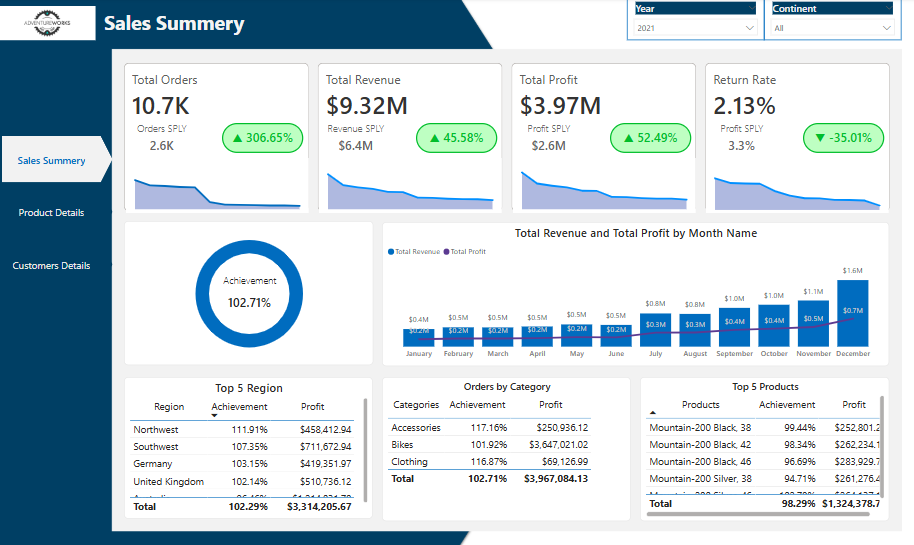

What the dashboard file says about the page in this screenshot:
{"tool":"powerbi","page":{"name":"Sales Summery","canvas":[1500,900],"ordinal":0},"visuals":[{"type":"image","title":"AW Logo","box":[0,12.6,158.4,55.8],"z":0},{"type":"tableEx","title":"Orders by Category","fields":{"Values":["Product Categories Dim.CategoryName","Measure Data.Revenue Achievement","Measure Data.Total Profit"]},"box":[626.7,620.2,407.5,235.6],"z":1000},{"type":"cardVisual","fields":{"Data":["Measure Data.Total Orders","Measure Data.Total Revenue","Measure Data.Total Profit","Measure Data.Return Rate"]},"box":[200.4,101.1,1264,252.8],"z":3000},{"type":"areaChart","fields":{"Category":["Calendar_Table.Month Name"],"Y":["Measure Data.Total Orders"]},"box":[207,261,298.8,90],"z":4000},{"type":"card","title":"YOY Growth","fields":{"Values":["Measure Data.YOY Growth Orders"]},"box":[365.4,205,133.2,48.6],"z":5000},{"type":"card","title":"Orders SPLY","fields":{"Values":["Measure Data.Total Orders SPLY"]},"box":[207,203.4,117,57.6],"z":6000},{"type":"areaChart","fields":{"Category":["Calendar_Table.Month Name"],"Y":["Measure Data.Total Revenue"]},"box":[523.8,261,298.8,90],"z":7000},{"type":"slicer","fields":{"Values":["Calendar_Table.Year"]},"box":[1028.1,0,224.7,69.3],"z":8000,"group":"g2"},{"type":"areaChart","fields":{"Category":["Calendar_Table.Month Name"],"Y":["Measure Data.Total Profit"]},"box":[840.6,261,298.8,90],"z":8000},{"type":"areaChart","fields":{"Category":["Calendar_Table.Month Name"],"Y":["Measure Data.Return Rate"]},"box":[1157.4,261,298.8,90],"z":9000},{"type":"card","title":"YOY Growth","fields":{"Values":["Measure Data.YOY Growth revenue"]},"box":[682.2,205,133.2,48.6],"z":10000},{"type":"card","title":"Revenue SPLY","fields":{"Values":["Measure Data.Total revenue SPLY"]},"box":[525.6,203.4,117,57.6],"z":11000},{"type":"card","title":"YOY Growth","fields":{"Values":["Measure Data.YOY Growth Profit"]},"box":[999,205,133.2,48.6],"z":12000},{"type":"card","title":"Profit SPLY","fields":{"Values":["Measure Data.Total Profit SPLY"]},"box":[840.6,203.4,117,57.6],"z":13000},{"type":"card","title":"YOY Growth","fields":{"Values":["Measure Data.YOY Return Rate"]},"box":[1315.8,205,133.2,48.6],"z":14000},{"type":"card","title":"Profit SPLY","fields":{"Values":["Measure Data.Return Rate SPLY"]},"box":[1157.4,203.4,117,57.6],"z":15000},{"type":"lineClusteredColumnComboChart","fields":{"Category":["Calendar_Table.Month Name"],"Y2":["Measure Data.Total Profit"],"Y":["Measure Data.Total Revenue"]},"box":[627.3,367,829.6,236],"z":16000},{"type":"tableEx","title":"Top 5 Region","fields":{"Values":["Territory Dim.Region","Measure Data.Revenue Achievement","Measure Data.Total Profit"]},"box":[204.5,620.2,407.5,232.4],"z":17000},{"type":"group","id":"g1","title":"Group 2","box":[204.1,365.4,408.2,236],"z":18000},{"type":"tableEx","title":"Top 5 Products","fields":{"Values":["Products Dim.ProductName","Measure Data.Revenue Achievement","Measure Data.Total Profit"]},"box":[1048.7,619.9,408.2,236],"z":19000},{"type":"textbox","box":[167.4,12.6,466.2,55.8],"z":20000},{"type":"group","id":"g2","title":"Group 3","box":[1028.1,0,449.4,69.3],"z":21000},{"type":"pageNavigator","box":[5.6,226.6,181.6,250],"z":21001},{"type":"slicer","fields":{"Values":["Territory Dim.Continent"]},"box":[1252.8,0,224.7,69.3],"z":22004,"group":"g2"},{"type":"donutChart","fields":{"Y":["Measure Data.Total Revenue","Measure Data.Revenue Target Gap_ABS"]},"box":[204.1,365.4,408.2,236],"z":26000,"group":"g1"},{"type":"card","title":"Achievement","fields":{"Values":["Measure Data.Revenue Achievement"]},"box":[329.9,451.5,159.2,74.9],"z":27000,"group":"g1"}]}

Visuals, with their boxes in screenshot pixels (x1, y1, x2, y2), scaled from the page's 1500x900 canvas onto the 914x545 screenshot:
"AW Logo" image: [0, 8, 97, 41]
"Orders by Category" tableEx: [382, 376, 630, 518]
cardVisual - Measure Data.Total Orders x Measure Data.Total Revenue: [122, 61, 892, 214]
areaChart - Calendar_Table.Month Name x Measure Data.Total Orders: [126, 158, 308, 213]
"YOY Growth" card: [223, 124, 304, 154]
"Orders SPLY" card: [126, 123, 197, 158]
areaChart - Calendar_Table.Month Name x Measure Data.Total Revenue: [319, 158, 501, 213]
slicer - Calendar_Table.Year: [626, 0, 763, 42]
areaChart - Calendar_Table.Month Name x Measure Data.Total Profit: [512, 158, 694, 213]
areaChart - Calendar_Table.Month Name x Measure Data.Return Rate: [705, 158, 887, 213]
"YOY Growth" card: [416, 124, 497, 154]
"Revenue SPLY" card: [320, 123, 392, 158]
"YOY Growth" card: [609, 124, 690, 154]
"Profit SPLY" card: [512, 123, 583, 158]
"YOY Growth" card: [802, 124, 883, 154]
"Profit SPLY" card: [705, 123, 777, 158]
lineClusteredColumnComboChart - Calendar_Table.Month Name x Measure Data.Total Profit: [382, 222, 888, 365]
"Top 5 Region" tableEx: [125, 376, 373, 516]
"Group 2" group: [124, 221, 373, 364]
"Top 5 Products" tableEx: [639, 375, 888, 518]
textbox: [102, 8, 386, 41]
"Group 3" group: [626, 0, 900, 42]
pageNavigator: [3, 137, 114, 289]
slicer - Territory Dim.Continent: [763, 0, 900, 42]
donutChart - Measure Data.Total Revenue x Measure Data.Revenue Target Gap_ABS: [124, 221, 373, 364]
"Achievement" card: [201, 273, 298, 319]
